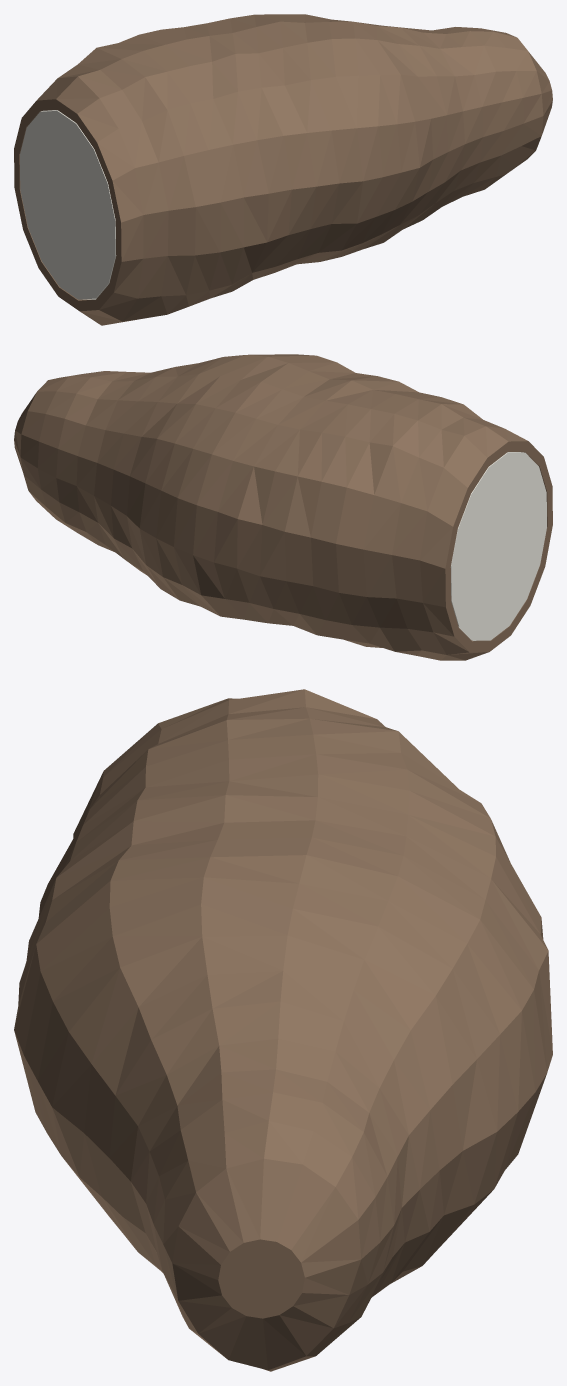
The model's file is ñame.fbx.
3 views of the same model, one above another, from view 1: azimuth 30°, elevation 25°; view 2: azimuth 150°, elevation 25°; view 3: azimuth 270°, elevation 25° (orthographic). The views are drawn at different scales.
Visible parts, largest first — view 1: Yame_Cascara, Yame_Pulpa; view 2: Yame_Cascara, Yame_Pulpa; view 3: Yame_Cascara.
Part boxes in pixels (x1,y1,x2,y2): Yame_Cascara: [14, 14, 552, 325]; Yame_Pulpa: [20, 110, 116, 299]; Yame_Cascara: [14, 354, 552, 660]; Yame_Pulpa: [450, 452, 546, 640]; Yame_Cascara: [14, 689, 552, 1371].
Size of the model in its own units: 362 by 177 by 203.
